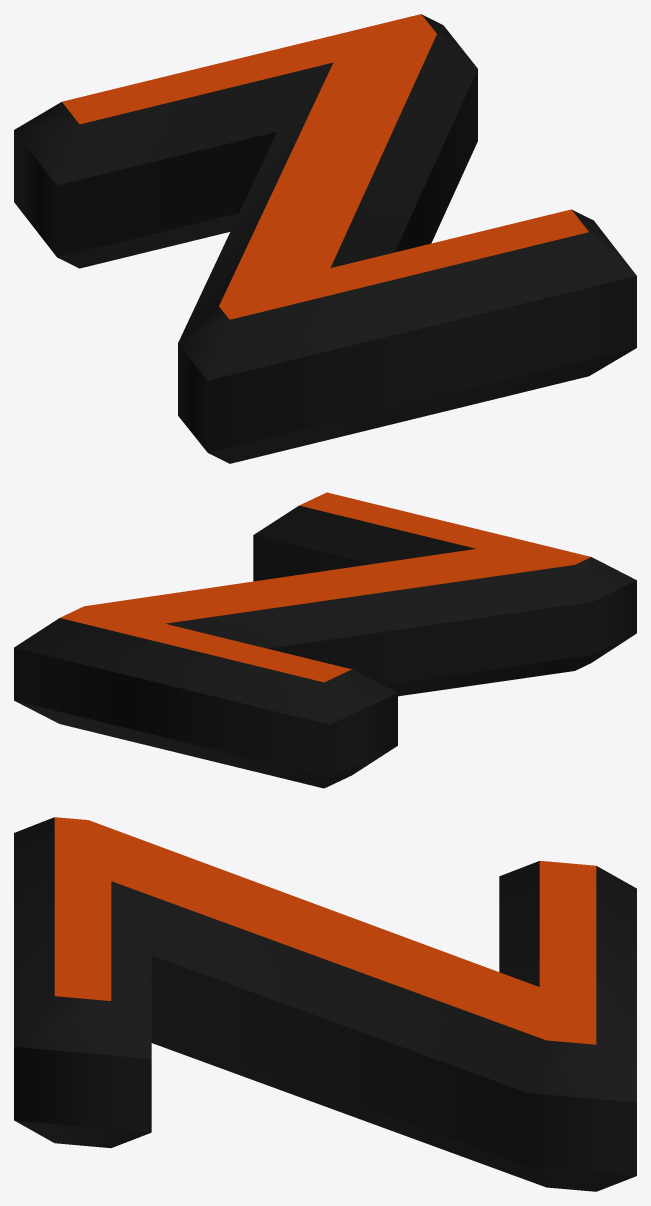
File: ZMin.fbx
3 views of the same model, one above another, from view 1: azimuth 30°, elevation 25°; view 2: azimuth 150°, elevation 25°; view 3: azimuth 270°, elevation 25° (orthographic). The views are drawn at different scales.
Visible parts, largest first — view 1: Text; view 2: Text; view 3: Text.
Part boxes in pixels (x1=…): Text: x1=14, y1=14, x2=636, y2=463; Text: x1=14, y1=492, x2=636, y2=788; Text: x1=14, y1=817, x2=636, y2=1191.
Size of the model in its own units: 0.6286 by 0.16 by 0.6142.
